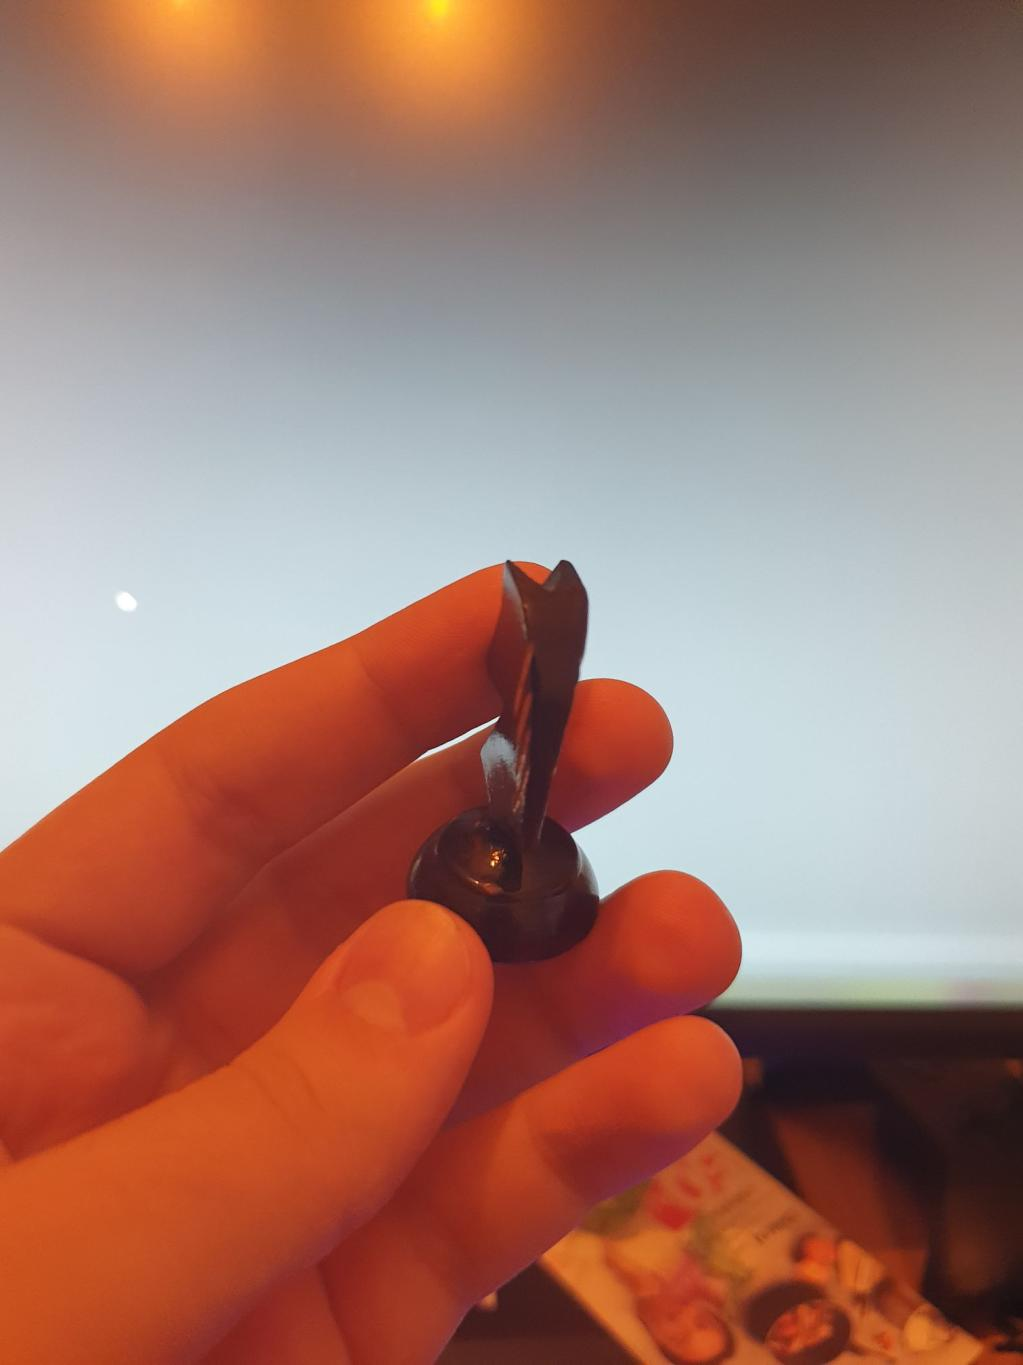bknight: (403, 554, 602, 963)
